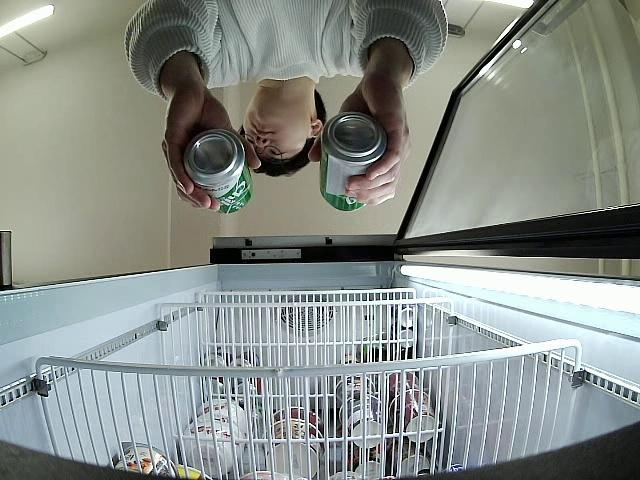00_hand: (308, 78, 413, 207), (160, 86, 262, 212)
12_chilsungCider: (320, 111, 389, 212), (180, 127, 253, 214)
